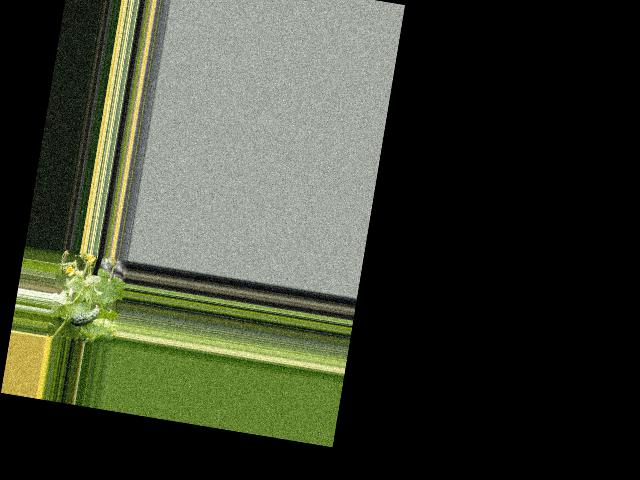cucumber: (68, 300, 100, 329)
